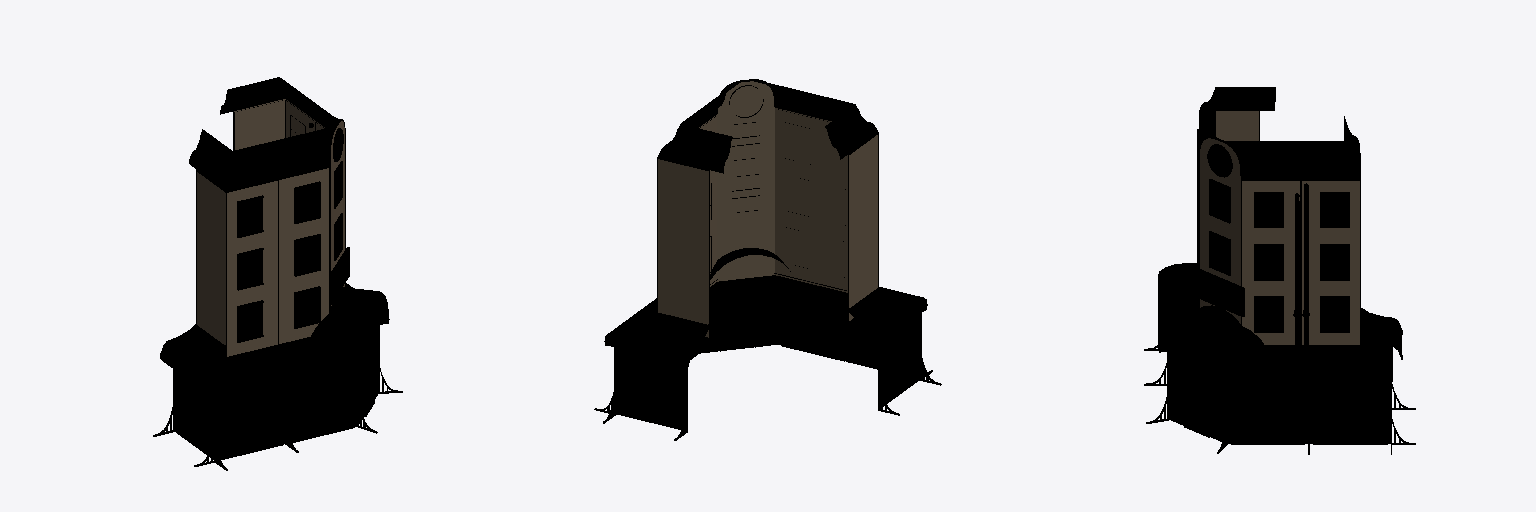
File: Building_2.obj
The picture shows the model from 3 angles: view 1: azimuth 30°, elevation 25°; view 2: azimuth 150°, elevation 25°; view 3: azimuth 270°, elevation 25°; orthographic projection.
Visible parts, largest first — view 1: Upper_Walls, Upper_Roof, Lower_Roof Lower_Roof_1, Lower_Walls, Window_2 Window_2_3 Window_Pane_2, pasted__Window_Pane_2 pasted__Window_2_1 Window_2_2 Window_2, Lower_Roof Lower_Roof_3, Upper_Frame, Lower_Roof Lower_Roof_5, Lower_Frame, Window_2 Window_Frame_2 Window_2_3, pasted__Window_2_1 Window_2_2 Window_2 pasted__Window_Frame_2 (+7 smaller); view 2: Upper_Walls, Lower_Walls, Upper_Roof, Lower_Roof Lower_Roof_4, Upper_Frame, Lower_Roof Lower_Roof_5, Lower_Frame, Lower_Roof_2 Lower_Roof, Lower_Roof Lower_Roof_1, Lower_Roof Lower_Roof_3; view 3: Upper_Walls, Upper_Roof, Lower_Roof_2 Lower_Roof, Lower_Walls, Window_2 Window_Pane_2 Window_2_4, Window_2 Window_Pane_2 Window_2_5, Lower_Roof Lower_Roof_3, Lower_Roof Lower_Roof_1, Upper_Frame, Door Door_Frame, Sign_Face Sign, Lower_Frame (+11 smaller).
Part boxes in pixels (left/top/right/bottom): Upper_Walls: left=197, top=99, right=344, bottom=356; Upper_Roof: left=189, top=78, right=339, bottom=190; Lower_Roof Lower_Roof_1: left=198, top=337, right=362, bottom=398; Lower_Walls: left=174, top=308, right=378, bottom=459; Window_2 Window_2_3 Window_Pane_2: left=221, top=389, right=281, bottom=456; pasted__Window_Pane_2 pasted__Window_2_1 Window_2_2 Window_2: left=292, top=372, right=352, bottom=439; Lower_Roof Lower_Roof_3: left=311, top=287, right=388, bottom=355; Upper_Frame: left=160, top=77, right=345, bottom=379; Lower_Roof Lower_Roof_5: left=161, top=325, right=225, bottom=381; Lower_Frame: left=153, top=322, right=402, bottom=470; Window_2 Window_Frame_2 Window_2_3: left=219, top=385, right=283, bottom=459; pasted__Window_2_1 Window_2_2 Window_2 pasted__Window_Frame_2: left=290, top=368, right=354, bottom=442; Upper_Walls: left=658, top=81, right=877, bottom=337; Lower_Walls: left=616, top=276, right=919, bottom=429; Upper_Roof: left=658, top=83, right=877, bottom=173; Lower_Roof Lower_Roof_4: left=637, top=313, right=708, bottom=366; Upper_Frame: left=636, top=79, right=914, bottom=365; Lower_Roof Lower_Roof_5: left=849, top=288, right=913, bottom=343; Lower_Frame: left=594, top=312, right=941, bottom=440; Lower_Roof_2 Lower_Roof: left=604, top=279, right=717, bottom=346; Lower_Roof Lower_Roof_1: left=766, top=273, right=927, bottom=314; Lower_Roof Lower_Roof_3: left=710, top=248, right=797, bottom=289; Upper_Walls: left=1200, top=111, right=1359, bottom=344; Upper_Roof: left=1200, top=88, right=1359, bottom=177; Lower_Roof_2 Lower_Roof: left=1227, top=345, right=1392, bottom=381; Lower_Walls: left=1169, top=329, right=1390, bottom=443; Window_2 Window_Pane_2 Window_2_4: left=1315, top=388, right=1385, bottom=440; Window_2 Window_Pane_2 Window_2_5: left=1233, top=388, right=1302, bottom=440; Lower_Roof Lower_Roof_3: left=1159, top=305, right=1263, bottom=376; Lower_Roof Lower_Roof_1: left=1158, top=263, right=1196, bottom=352; Upper_Frame: left=1199, top=87, right=1402, bottom=359; Door Door_Frame: left=1184, top=367, right=1209, bottom=437; Sign_Face Sign: left=1195, top=270, right=1241, bottom=314; Lower_Frame: left=1144, top=345, right=1415, bottom=454.
Bounding box in the file's own units: 16.44 × 18.95 × 16.43.